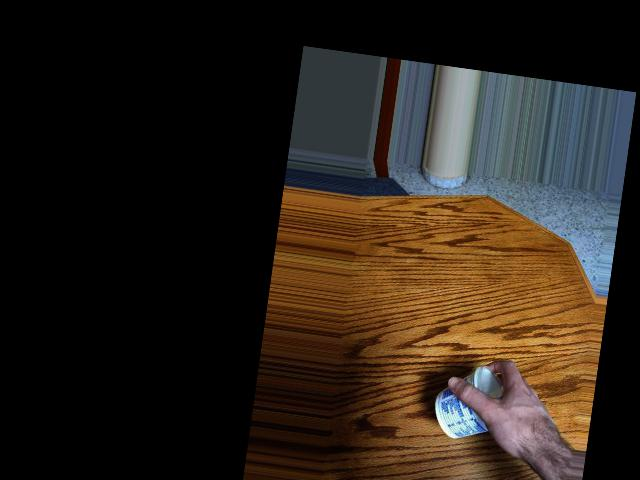cotage: (436, 361, 517, 454)
